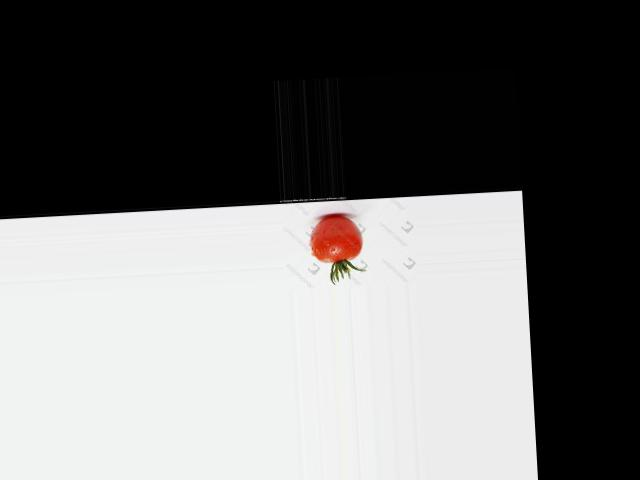tomato: (310, 213, 364, 263)
